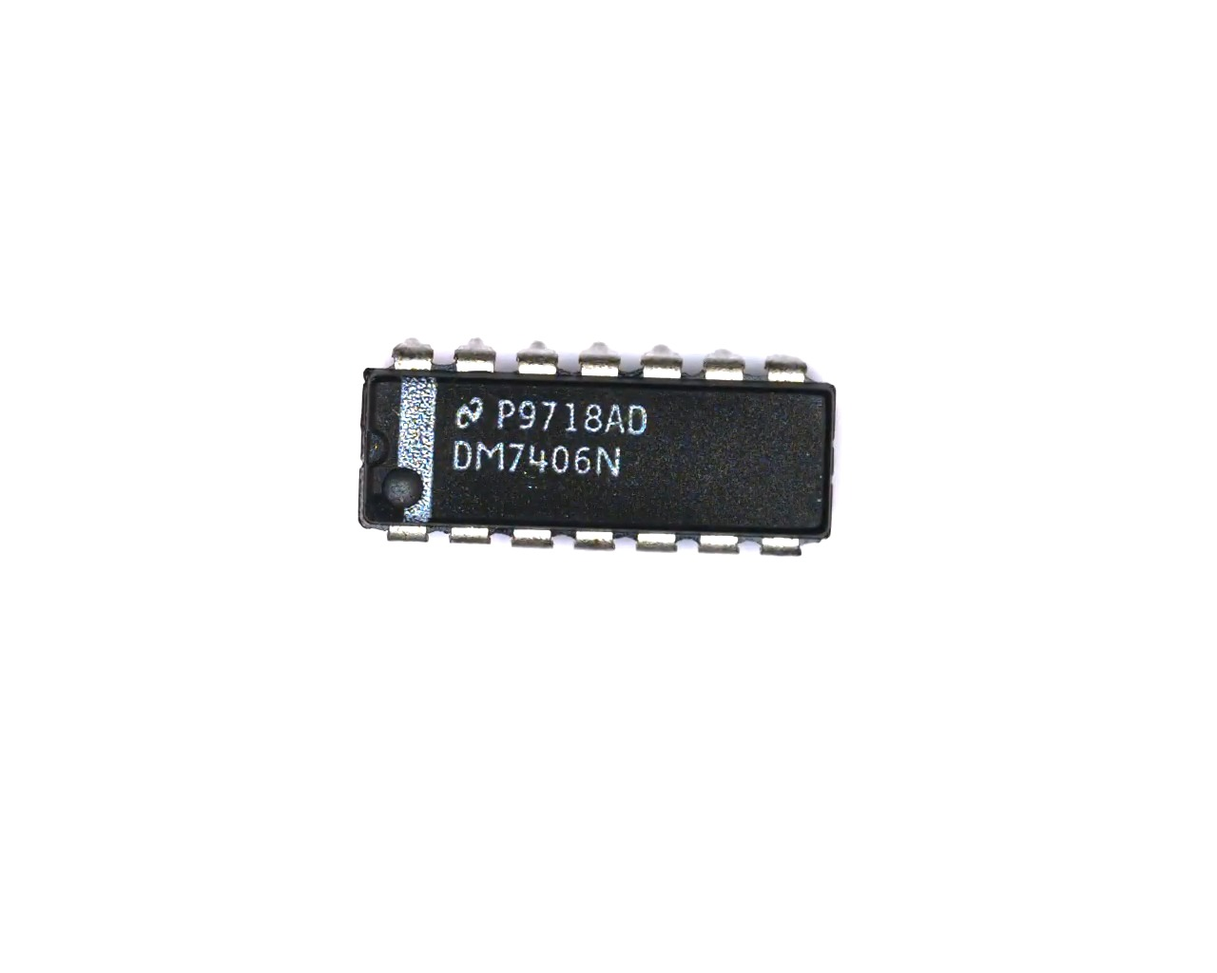IC: (337, 335, 853, 566)
notch: (357, 426, 394, 471)
